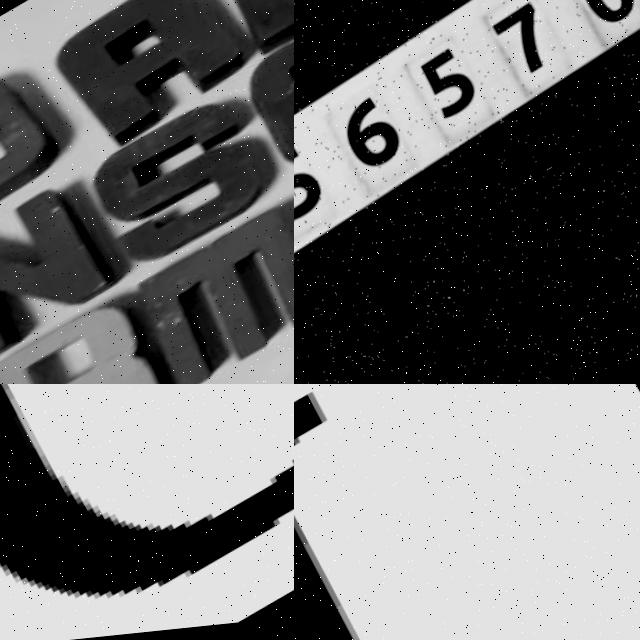0: (557, 0, 640, 57)
5: (398, 38, 486, 146), (294, 130, 332, 246)
6: (315, 80, 413, 200)
7: (473, 0, 568, 106)
A: (50, 0, 254, 157)
B: (202, 0, 294, 66)
D: (0, 54, 63, 241)
G: (0, 384, 294, 640), (238, 0, 294, 184)
L: (294, 384, 640, 640)
M: (110, 205, 294, 384)
N: (0, 179, 121, 380)
R: (0, 295, 168, 384)
S: (80, 88, 287, 284)
